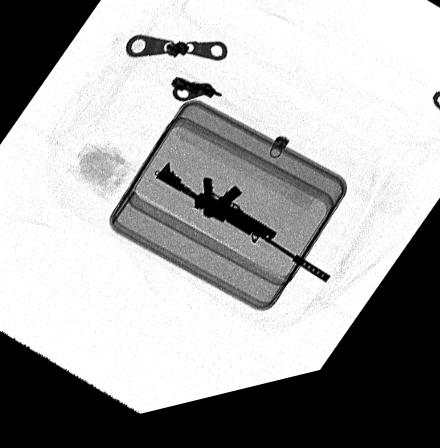Gun: (152, 169, 330, 302)
